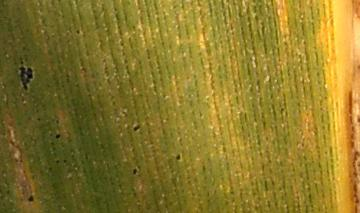tarspot: (17, 66, 35, 92), (132, 123, 141, 133), (131, 167, 139, 176), (26, 194, 34, 203), (54, 133, 62, 140), (62, 157, 69, 164), (75, 28, 81, 36), (175, 153, 181, 161), (54, 119, 62, 125), (54, 158, 60, 165), (35, 117, 42, 123), (19, 59, 25, 66)
